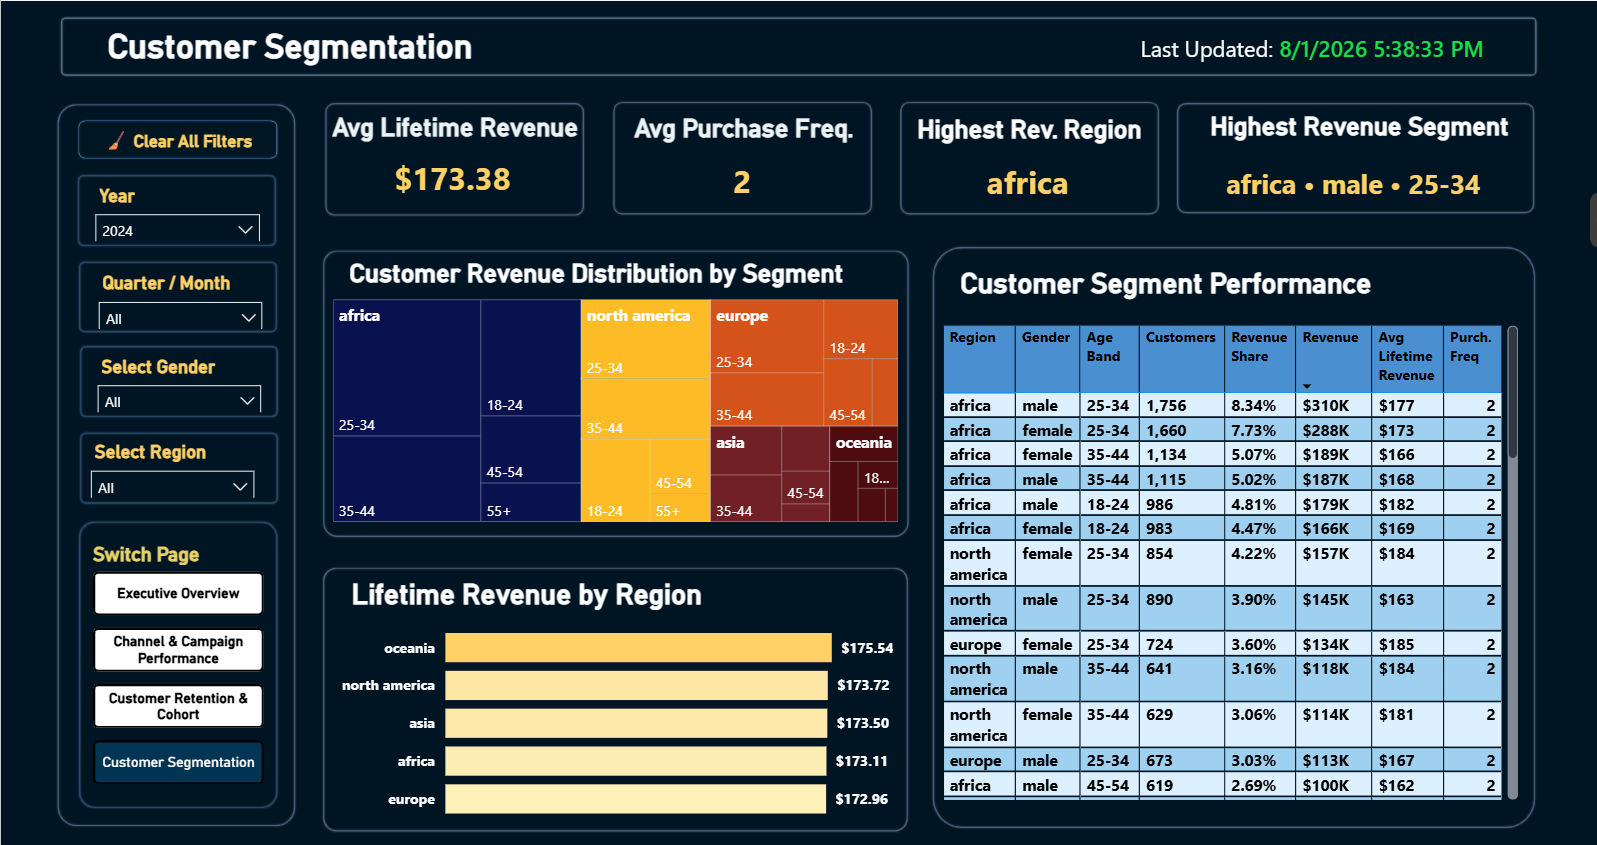

Layout of this report page (visuals, bound fields, positions):
{"tool":"powerbi","page":{"name":"Customer Segmentation","canvas":[1280,720],"ordinal":3},"visuals":[{"type":"group","id":"g1","title":"Last Updated","box":[909.6,0,345.4,63.3],"z":0,"group":"g9"},{"type":"cardVisual","fields":{"Data":["Min(dim_customers.loaded_at)"]},"box":[1006.8,0,248.2,63.3],"z":0,"group":"g1"},{"type":"shape","box":[717.1,61.8,231.4,110],"z":0,"group":"g22"},{"type":"shape","box":[232.8,61.9,232.9,108.6],"z":0,"group":"g10"},{"type":"shape","title":"Shape","box":[10,62.9,207,643.6],"z":0,"group":"g11"},{"type":"shape","box":[480,63.2,224,108.5],"z":0,"group":"g17"},{"type":"group","id":"g2","title":"High Rev Seg","box":[962.8,63.3,304.3,108.6],"z":0,"group":"g7"},{"type":"shape","box":[962.8,63.3,304.3,108.6],"z":0,"group":"g2"},{"type":"actionButton","title":"Clear Filters","box":[25.3,79.8,133.6,27.6],"z":0,"group":"g12"},{"type":"group","id":"g3","title":"Filters","box":[21.2,116.1,182.9,329.4],"z":0,"group":"g18"},{"type":"shape","box":[27.4,179,170.9,29.2],"z":0,"group":"g23"},{"type":"shape","box":[232,184.7,502.9,281.4],"z":0,"group":"g13"},{"type":"shape","box":[747.7,184.7,521.4,522.9],"z":0,"group":"g4"},{"type":"group","id":"g4","title":"Customer Seg Performace","box":[747.7,184.7,521.4,522.9],"z":0,"group":"g8"},{"type":"shape","box":[25.6,258.5,170.9,29.2],"z":0,"group":"g19"},{"type":"shape","box":[25.6,336.1,170.9,29.2],"z":0,"group":"g14"},{"type":"group","id":"g5","title":"Quarter / Month","box":[24,385.1,180.1,60.4],"z":0,"group":"g3"},{"type":"shape","box":[27.9,416.3,170.9,29.2],"z":0,"group":"g5"},{"type":"shape","box":[232,480.4,501.4,227.1],"z":0,"group":"g20"},{"type":"pageNavigator","title":"Switch Page","box":[21.2,507.7,186.7,188.4],"z":0,"group":"g6"},{"type":"group","id":"g6","title":"Group 1","box":[21.2,507.7,186.7,188.4],"z":0,"group":"g15"},{"type":"actionButton","title":"Clear Filters","box":[30.5,507.8,33.5,39.1],"z":0,"group":"g16"},{"type":"actionButton","title":"Clear Filters","box":[30.5,558.2,33.5,39.1],"z":0,"group":"g21"},{"type":"actionButton","title":"Clear Filters","box":[30.5,606.7,33.5,39.1],"z":0,"group":"g24"},{"type":"actionButton","title":"Clear Filters","box":[30.5,655.9,33.5,39.1],"z":0,"group":"g25"},{"type":"group","id":"g7","title":"KPI Cards","box":[232.8,61.8,1034.3,110.1],"z":125},{"type":"group","id":"g8","title":"Charts","box":[232,184.7,1037.1,522.9],"z":250},{"type":"group","id":"g9","title":"heading","box":[17.2,0,1237.8,63.3],"z":500},{"type":"textbox","title":"Title","box":[61.9,12.4,440.5,37.2],"z":1000,"group":"g9"},{"type":"textbox","box":[909.6,16.5,143.6,35.2],"z":1000,"group":"g1"},{"type":"group","id":"g10","title":"High Rev Reg","box":[232.8,61.9,232.9,108.6],"z":1000,"group":"g7"},{"type":"group","id":"g11","title":"Left Panel","box":[10,62.9,207.1,642.9],"z":1000},{"type":"textbox","box":[980.2,66.2,274.9,46.6],"z":1000,"group":"g2"},{"type":"textbox","box":[739.2,68.3,190.5,45.9],"z":1000,"group":"g22"},{"type":"textbox","box":[245.1,69.4,214,42.2],"z":1000,"group":"g10"},{"type":"textbox","box":[498.3,69.5,194.5,46.9],"z":1000,"group":"g17"},{"type":"group","id":"g12","title":"Clear Filters","box":[25.3,79.8,133.6,27.6],"z":1000,"group":"g18"},{"type":"slicer","fields":{"Values":["dim_channels.channel_name"]},"box":[23.9,144.6,178.5,57.5],"z":1000,"group":"g23"},{"type":"group","id":"g13","title":"Customer Rev Dist","box":[232,184.7,502.9,281.4],"z":1000,"group":"g8"},{"type":"slicer","fields":{"Values":["agg_customer_cohort.region"]},"box":[21.2,224.3,178.5,58.3],"z":1000,"group":"g19"},{"type":"treemap","fields":{"Details":["agg_customer_segment.age_band"],"Group":["agg_customer_segment.region"],"Values":["Sum(agg_customer_segment.total_revenue)"]},"box":[237.2,228.2,492.1,226.6],"z":1000,"group":"g13"},{"type":"tableEx","fields":{"Values":["agg_customer_segment.region","agg_customer_segment.gender","agg_customer_segment.age_band","Sum(agg_customer_segment.total_customers)","Divide(Sum(agg_customer_segment.total_revenue), ScopedEval(Sum(agg_customer_segment.total_revenue), []))","Sum(agg_customer_segment.total_revenue)","agg_customer_segment.Avg Lifetime Revenue","agg_customer_segment.Purchase Frequency"]},"box":[753.4,230.2,508.6,468.9],"z":1000,"group":"g4"},{"type":"group","id":"g14","title":"Year","box":[22.3,303.5,178.5,61.8],"z":1000,"group":"g3"},{"type":"slicer","fields":{"Values":["dim_date.year_value"]},"box":[22.3,303.5,178.5,57.5],"z":1000,"group":"g14"},{"type":"slicer","fields":{"Values":["dim_date.quarter_name","dim_date.month_name_short"]},"box":[24,385.1,180.1,58.3],"z":1000,"group":"g5"},{"type":"group","id":"g15","title":"Navigation","box":[19.5,469.5,188.4,226.6],"z":1000,"group":"g11"},{"type":"textbox","box":[19.5,469.5,96.6,36.9],"z":1000,"group":"g15"},{"type":"textbox","box":[249.4,486.4,425.2,34.1],"z":1000,"group":"g20"},{"type":"group","id":"g16","title":"Clear Filters","box":[30.5,507.8,33.5,39.1],"z":1000,"group":"g6"},{"type":"image","box":[17.2,5.7,45,45],"z":2000,"group":"g9"},{"type":"group","id":"g17","title":"Avg Pur Freq","box":[480,63.2,224,108.5],"z":2000,"group":"g7"},{"type":"group","id":"g18","title":"SLicers","box":[21.2,79.8,182.9,365.7],"z":2000,"group":"g11"},{"type":"cardVisual","fields":{"Data":["agg_customer_segment.Highest Revenue Region"]},"box":[739.2,98.4,189.1,63.3],"z":2000,"group":"g22"},{"type":"cardVisual","fields":{"Data":["agg_customer_segment.Purchase Frequency"]},"box":[498.6,99.2,184.5,67.2],"z":2000,"group":"g17"},{"type":"cardVisual","fields":{"Data":["agg_customer_segment.Average Customer Lifetime Value"]},"box":[247,106.9,202.1,56.3],"z":2000,"group":"g10"},{"type":"cardVisual","fields":{"Data":["agg_customer_segment.Highest Revenue Segment"]},"box":[982.3,110,273.8,54.3],"z":2000,"group":"g2"},{"type":"textbox","box":[757.7,190.4,365.7,36.9],"z":2000,"group":"g4"},{"type":"textbox","box":[237.7,191.2,394.4,37.3],"z":2000,"group":"g13"},{"type":"group","id":"g19","title":"Region","box":[21.2,224.3,178.5,63.4],"z":2000,"group":"g3"},{"type":"group","id":"g20","title":"Avg Lifetime Rev","box":[232,480.4,501.4,227.1],"z":2000,"group":"g8"},{"type":"clusteredBarChart","fields":{"Category":["agg_customer_segment.region"],"Y":["agg_customer_segment.Avg Lifetime Revenue"]},"box":[244.9,514.3,480,192],"z":2000,"group":"g20"},{"type":"group","id":"g21","title":"Clear Filters","box":[30.5,558.2,33.5,39.1],"z":2000,"group":"g6"},{"type":"group","id":"g22","title":"Avg Lifetime Rev","box":[717.1,61.8,231.4,110],"z":3000,"group":"g7"},{"type":"group","id":"g23","title":"Channel Slicer","box":[23.9,144.6,178.5,63.5],"z":3000,"group":"g3"},{"type":"group","id":"g24","title":"Clear Filters","box":[30.5,606.7,33.5,39.1],"z":3000,"group":"g6"},{"type":"textbox","box":[27,116.1,167.1,31.5],"z":4000,"group":"g3"},{"type":"group","id":"g25","title":"Clear Filters","box":[30.5,655.9,33.5,39.1],"z":4000,"group":"g6"}]}

Visuals, with their boxes on the page's 1280x720 design canvas (x1, y1, x2, y2). These are canvas units, not pixel positions in the 1597x845 screenshot, which may show the page scaled, cropped or inside an application window:
"Last Updated" group: bbox=(910, 0, 1255, 63)
cardVisual - Min(dim_customers.loaded_at): bbox=(1007, 0, 1255, 63)
shape: bbox=(717, 62, 948, 172)
shape: bbox=(233, 62, 466, 170)
"Shape" shape: bbox=(10, 63, 217, 706)
shape: bbox=(480, 63, 704, 172)
"High Rev Seg" group: bbox=(963, 63, 1267, 172)
shape: bbox=(963, 63, 1267, 172)
"Clear Filters" actionButton: bbox=(25, 80, 159, 107)
"Filters" group: bbox=(21, 116, 204, 446)
shape: bbox=(27, 179, 198, 208)
shape: bbox=(232, 185, 735, 466)
shape: bbox=(748, 185, 1269, 708)
"Customer Seg Performace" group: bbox=(748, 185, 1269, 708)
shape: bbox=(26, 258, 196, 288)
shape: bbox=(26, 336, 196, 365)
"Quarter / Month" group: bbox=(24, 385, 204, 446)
shape: bbox=(28, 416, 199, 446)
shape: bbox=(232, 480, 733, 708)
"Switch Page" pageNavigator: bbox=(21, 508, 208, 696)
"Group 1" group: bbox=(21, 508, 208, 696)
"Clear Filters" actionButton: bbox=(30, 508, 64, 547)
"Clear Filters" actionButton: bbox=(30, 558, 64, 597)
"Clear Filters" actionButton: bbox=(30, 607, 64, 646)
"Clear Filters" actionButton: bbox=(30, 656, 64, 695)
"KPI Cards" group: bbox=(233, 62, 1267, 172)
"Charts" group: bbox=(232, 185, 1269, 708)
"heading" group: bbox=(17, 0, 1255, 63)
"Title" textbox: bbox=(62, 12, 502, 50)
textbox: bbox=(910, 16, 1053, 52)
"High Rev Reg" group: bbox=(233, 62, 466, 170)
"Left Panel" group: bbox=(10, 63, 217, 706)
textbox: bbox=(980, 66, 1255, 113)
textbox: bbox=(739, 68, 930, 114)
textbox: bbox=(245, 69, 459, 112)
textbox: bbox=(498, 70, 693, 116)
"Clear Filters" group: bbox=(25, 80, 159, 107)
slicer - dim_channels.channel_name: bbox=(24, 145, 202, 202)
"Customer Rev Dist" group: bbox=(232, 185, 735, 466)
slicer - agg_customer_cohort.region: bbox=(21, 224, 200, 283)
treemap - agg_customer_segment.age_band x agg_customer_segment.region: bbox=(237, 228, 729, 455)
tableEx - agg_customer_segment.region x agg_customer_segment.gender: bbox=(753, 230, 1262, 699)
"Year" group: bbox=(22, 304, 201, 365)
slicer - dim_date.year_value: bbox=(22, 304, 201, 361)
slicer - dim_date.quarter_name x dim_date.month_name_short: bbox=(24, 385, 204, 443)
"Navigation" group: bbox=(20, 470, 208, 696)
textbox: bbox=(20, 470, 116, 506)
textbox: bbox=(249, 486, 675, 520)
"Clear Filters" group: bbox=(30, 508, 64, 547)
image: bbox=(17, 6, 62, 51)
"Avg Pur Freq" group: bbox=(480, 63, 704, 172)
"SLicers" group: bbox=(21, 80, 204, 446)
cardVisual - agg_customer_segment.Highest Revenue Region: bbox=(739, 98, 928, 162)
cardVisual - agg_customer_segment.Purchase Frequency: bbox=(499, 99, 683, 166)
cardVisual - agg_customer_segment.Average Customer Lifetime Value: bbox=(247, 107, 449, 163)
cardVisual - agg_customer_segment.Highest Revenue Segment: bbox=(982, 110, 1256, 164)
textbox: bbox=(758, 190, 1123, 227)
textbox: bbox=(238, 191, 632, 228)
"Region" group: bbox=(21, 224, 200, 288)
"Avg Lifetime Rev" group: bbox=(232, 480, 733, 708)
clusteredBarChart - agg_customer_segment.region x agg_customer_segment.Avg Lifetime Revenue: bbox=(245, 514, 725, 706)
"Clear Filters" group: bbox=(30, 558, 64, 597)
"Avg Lifetime Rev" group: bbox=(717, 62, 948, 172)
"Channel Slicer" group: bbox=(24, 145, 202, 208)
"Clear Filters" group: bbox=(30, 607, 64, 646)
textbox: bbox=(27, 116, 194, 148)
"Clear Filters" group: bbox=(30, 656, 64, 695)
